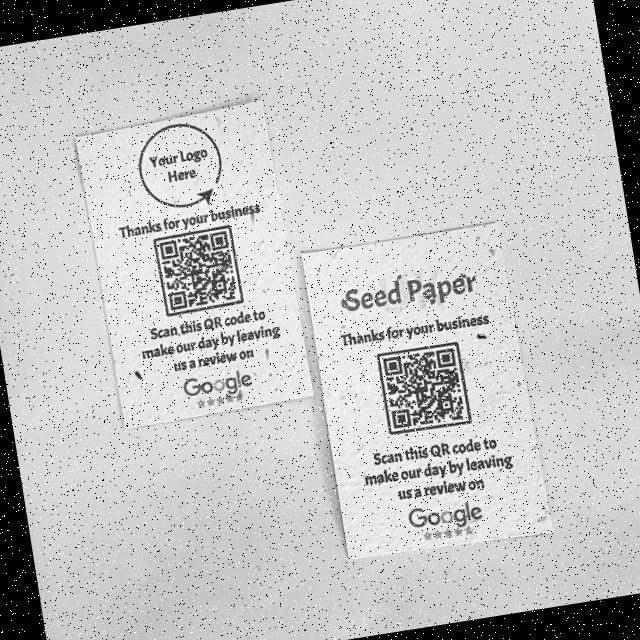QR-codes: (152, 224, 245, 314), (379, 342, 472, 432)
